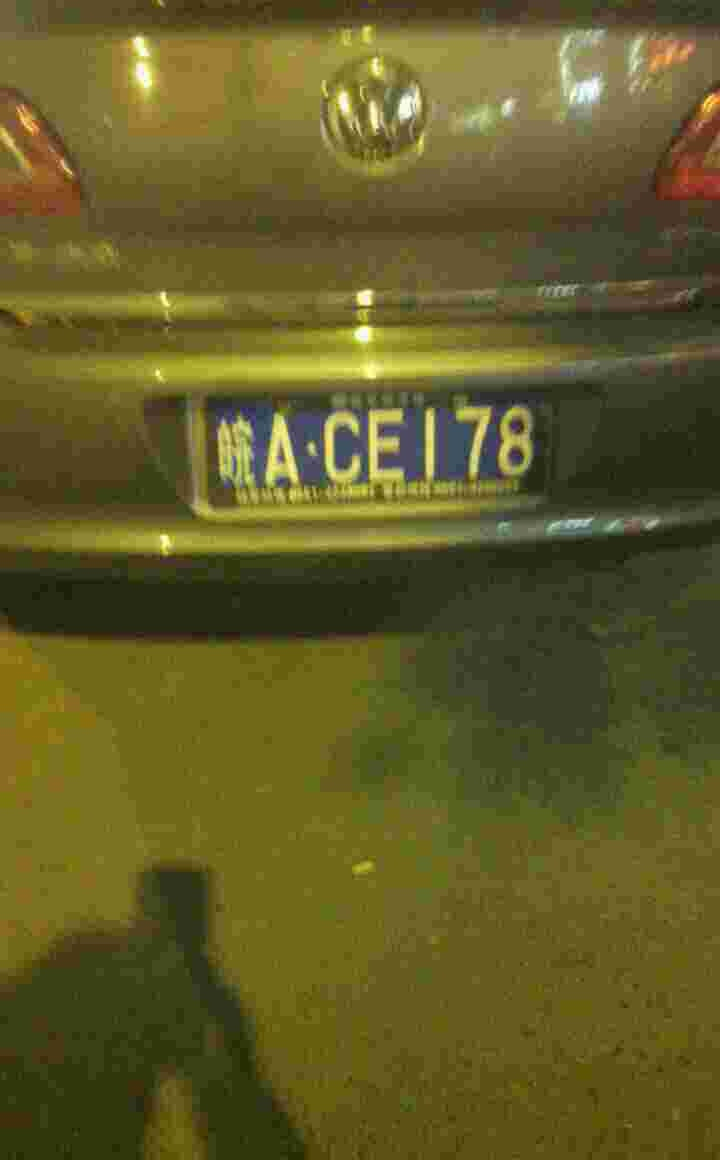car: (212, 397, 544, 501)
